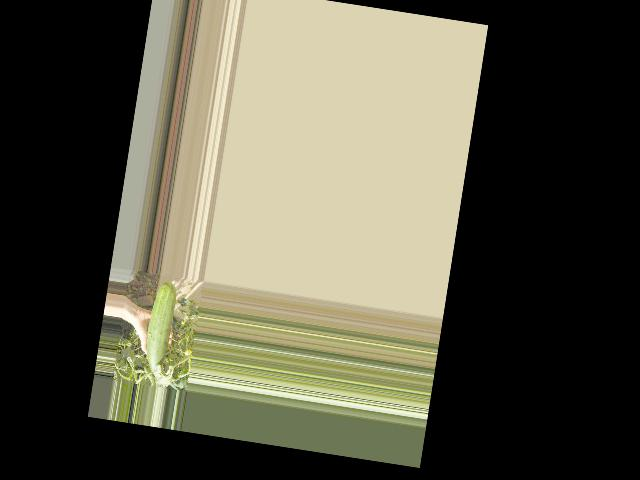cucumber: (141, 280, 178, 375)
